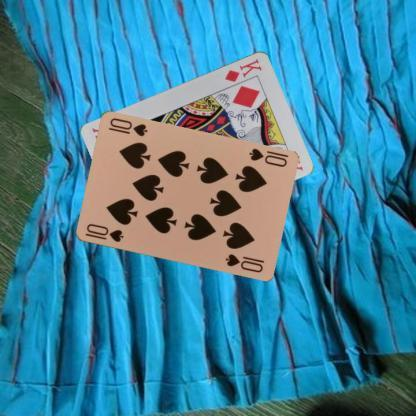10s: (82, 221, 125, 244), (246, 146, 288, 168)
Kd: (222, 56, 264, 83)
